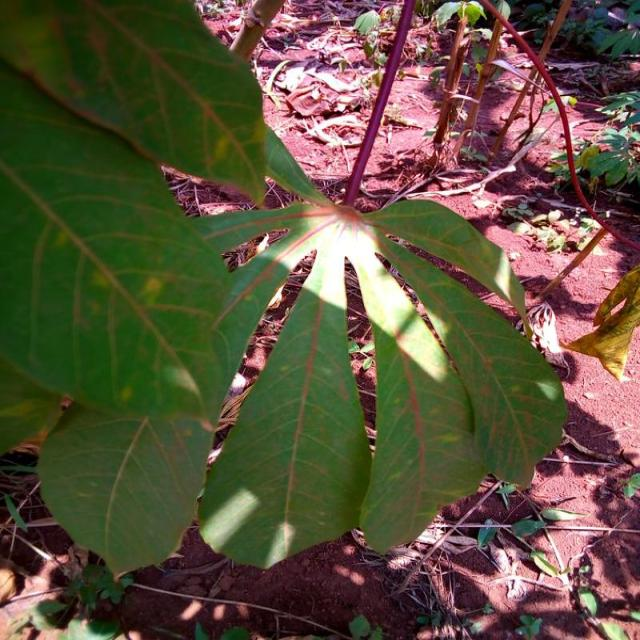cassava leaf: (0, 0, 270, 579), (197, 248, 372, 570)
